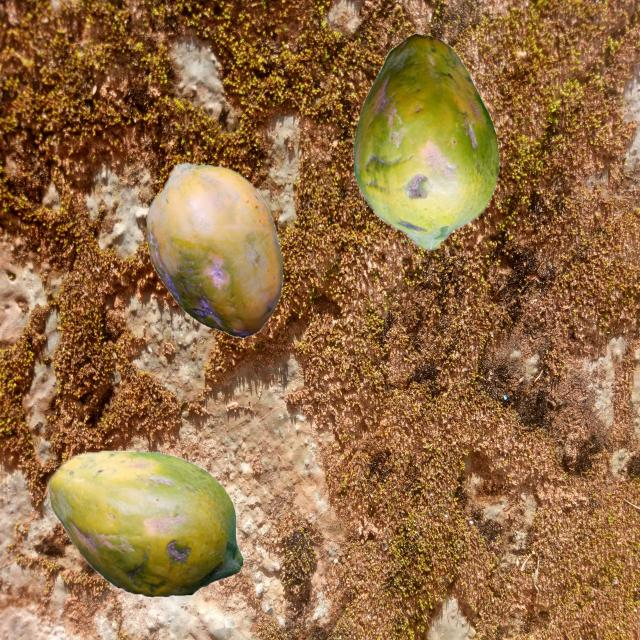Pepaya rippen: (24, 445, 250, 609), (349, 36, 510, 252), (144, 149, 302, 366)
